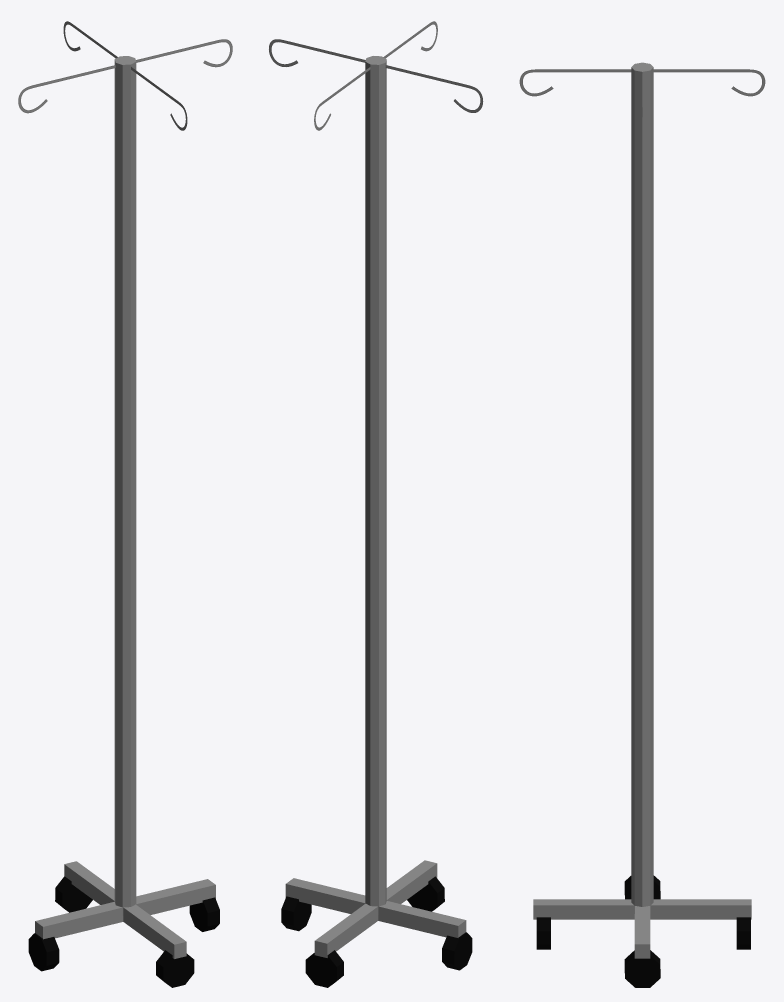
The model's file is Holder.fbx.
The picture shows the model from 3 angles, left to right: view 1: azimuth 30°, elevation 25°; view 2: azimuth 150°, elevation 25°; view 3: azimuth 270°, elevation 25°; orthographic projection.
Parts seen in each view (by area): view 1: Cylinder.002; view 2: Cylinder.002; view 3: Cylinder.002.
Part boxes in pixels (x1,y1,x2,y2): Cylinder.002: (18, 21, 232, 987); Cylinder.002: (269, 21, 483, 987); Cylinder.002: (519, 62, 765, 987).
Bounding box in the file's own units: 38.95 × 149 × 38.95.
Materials: 1 (1 with a texture image).
